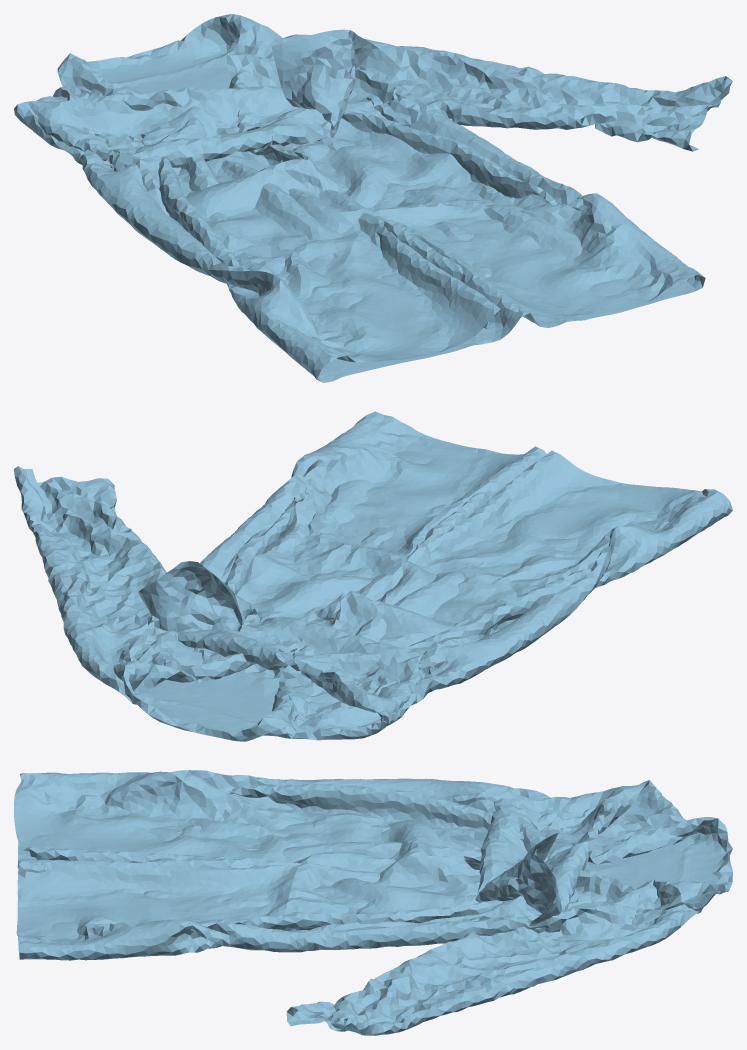
File: frame_01.glb
3 renders of one model, top to bottom at view 1: azimuth 30°, elevation 25°; view 2: azimuth 150°, elevation 25°; view 3: azimuth 270°, elevation 25°, orthographic. The views are drawn at different scales.
Visible parts, largest first — view 1: frame_01.obj; view 2: frame_01.obj; view 3: frame_01.obj.
Boxes of the visible parts, x1,y1,x2,y2 form: frame_01.obj: (14,14,732,382); frame_01.obj: (14,411,732,741); frame_01.obj: (14,770,732,1035).
Bounding box in the file's own units: 1.46 × 0.1963 × 1.65.
